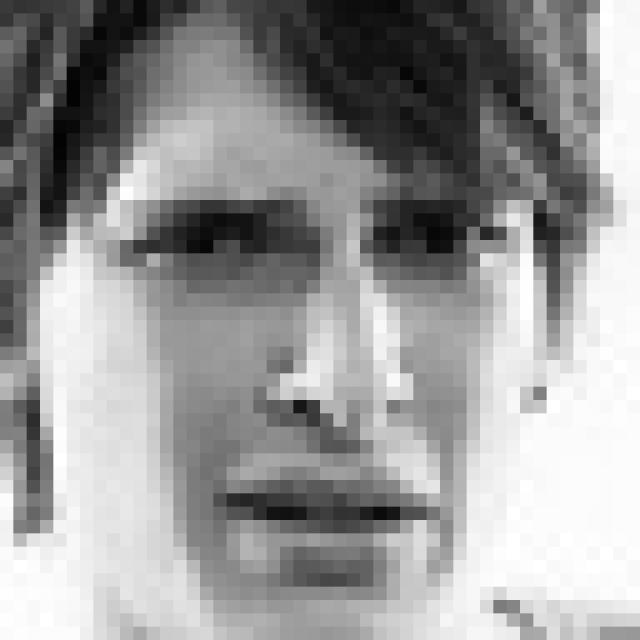disgust: (107, 182, 521, 593)
